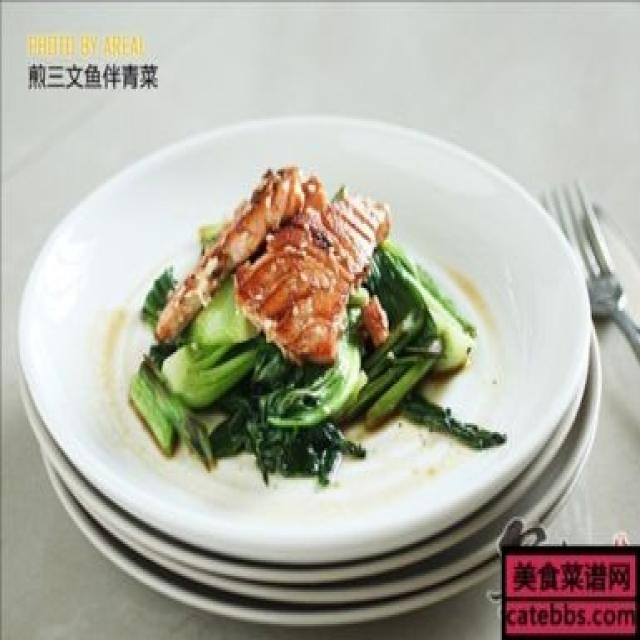熟制海鲜: (31, 112, 594, 581)
